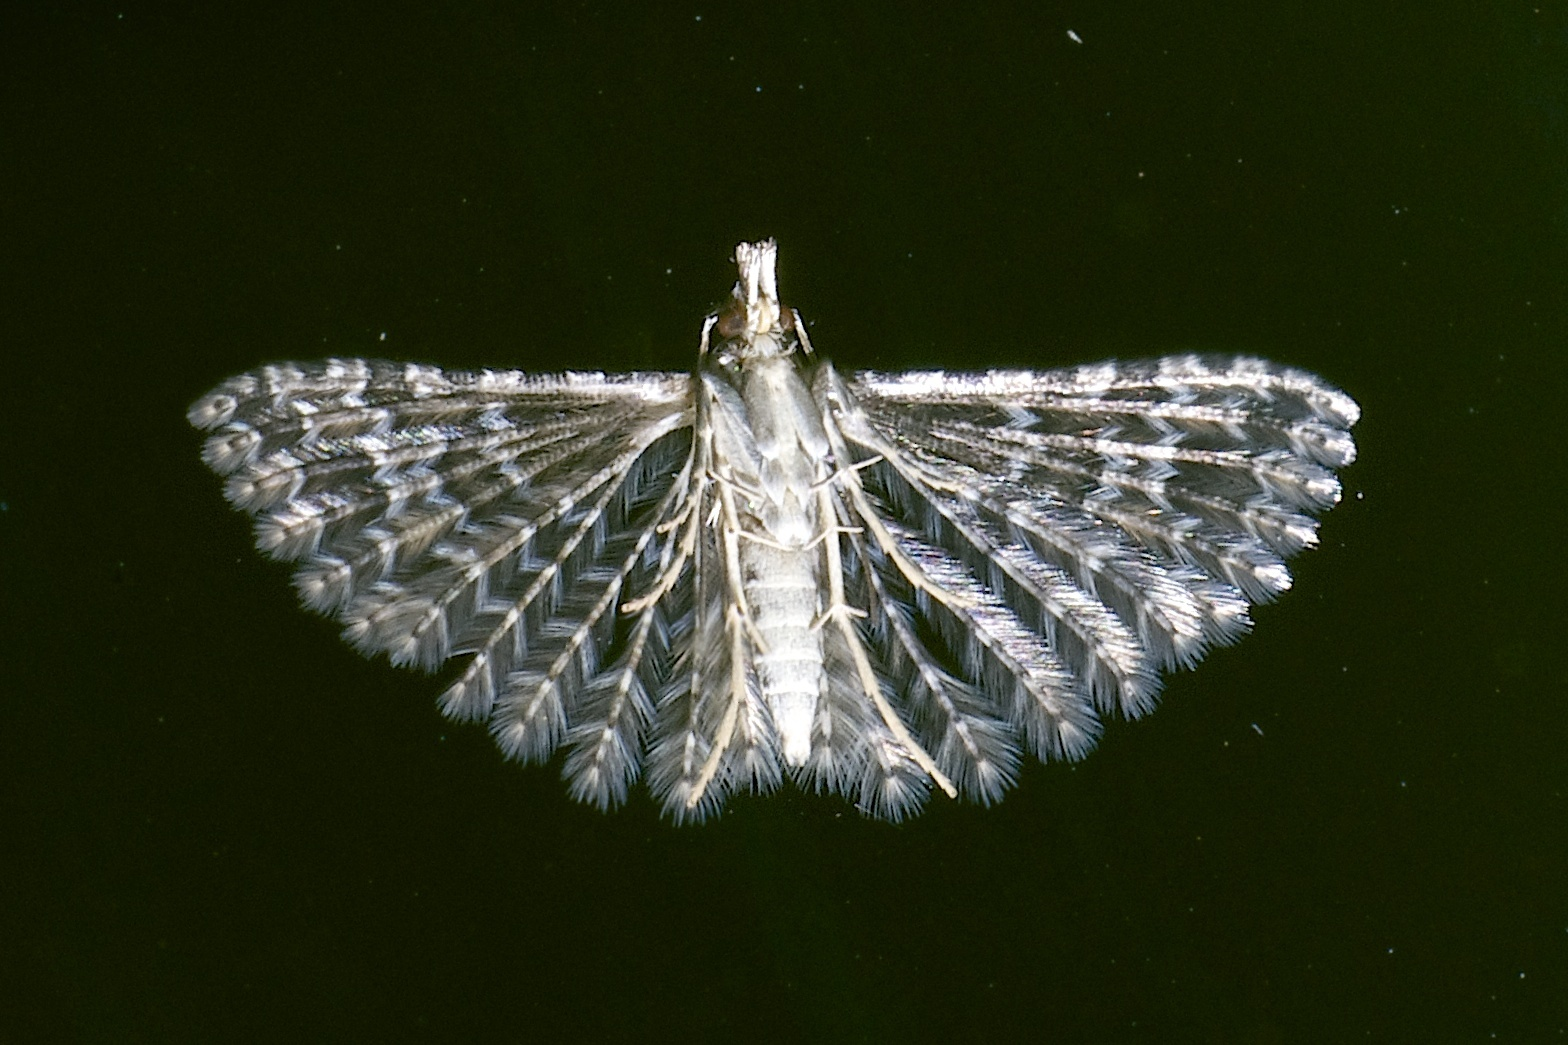Alucitidae: (184, 226, 1381, 841)
moth: (187, 227, 1383, 843)
